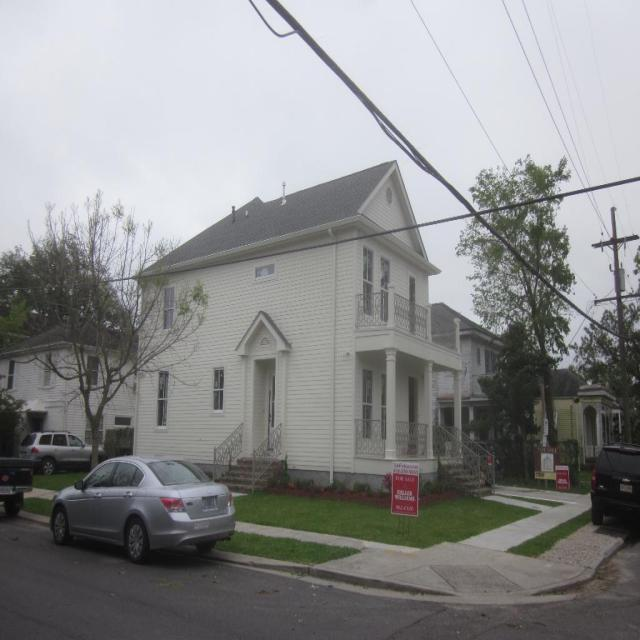car: (40, 456, 233, 565)
